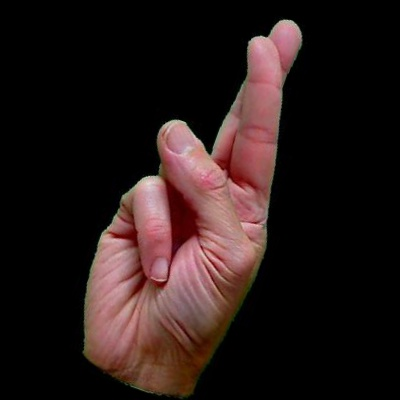r: (1, 11, 400, 400)
